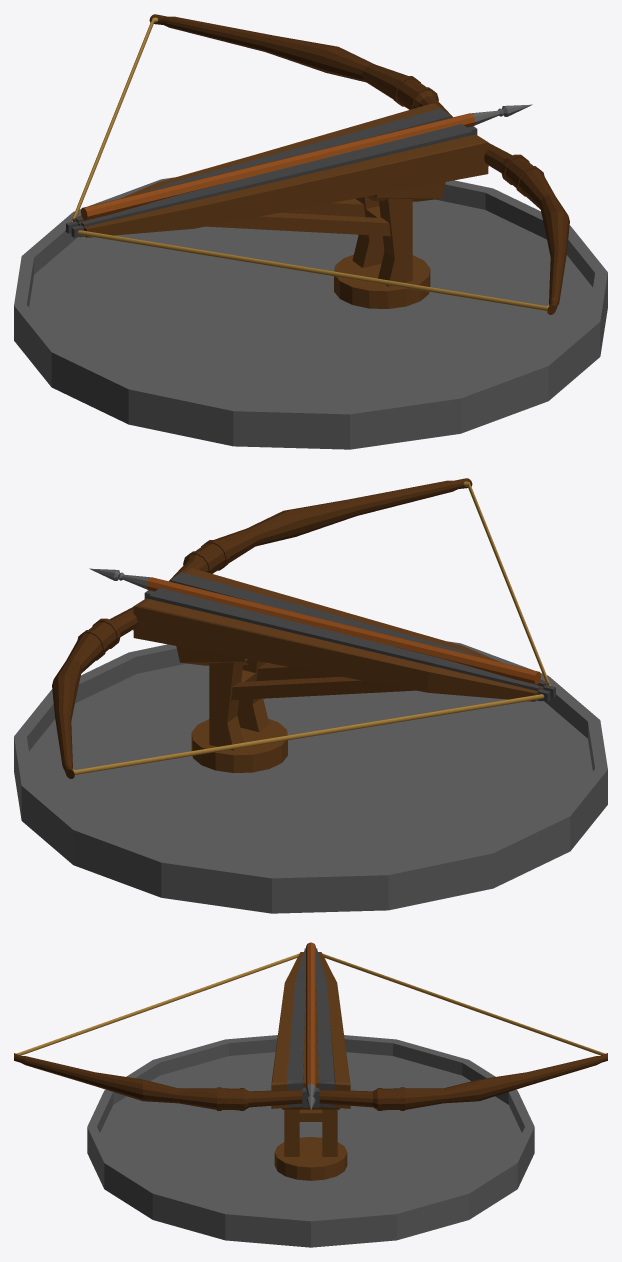
File: spearthrower_base.fbx
3 renders of one model, top to bottom at view 1: azimuth 30°, elevation 25°; view 2: azimuth 150°, elevation 25°; view 3: azimuth 270°, elevation 25°, orthographic. The views are drawn at different scales.
Parts seen in each view (by area): view 1: BasePrincipal, Base, Crossbow, Lanca, Foot, Apoio, Corda, BasePequena; view 2: BasePrincipal, Base, Crossbow, Lanca, Foot, Apoio, Corda, BasePequena; view 3: BasePrincipal, Crossbow, Base, Corda, BasePequena, Foot, Lanca.
Boxes of the visible parts, <box> form: BasePrincipal: <box>14,177,607,449</box>; Base: <box>65,103,488,237</box>; Crossbow: <box>149,14,569,314</box>; Lanca: <box>80,104,532,220</box>; Foot: <box>352,196,412,286</box>; Apoio: <box>206,199,390,236</box>; Corda: <box>71,17,549,310</box>; BasePequena: <box>334,254,430,308</box>; BasePrincipal: <box>14,641,607,913</box>; Base: <box>133,567,556,701</box>; Crossbow: <box>52,478,472,778</box>; Lanca: <box>89,568,541,684</box>; Foot: <box>209,660,269,750</box>; Apoio: <box>231,663,415,700</box>; Corda: <box>72,481,550,774</box>; BasePequena: <box>191,718,287,772</box>; BasePrincipal: <box>87,1035,534,1247</box>; Crossbow: <box>14,1053,607,1110</box>; Base: <box>271,948,350,1109</box>; Corda: <box>16,953,605,1055</box>; BasePequena: <box>274,1137,347,1180</box>; Foot: <box>284,1109,337,1156</box>; Lanca: <box>306,942,315,1109</box>.
Bounding box in the file's own units: 308 × 97.4 × 409.
Materials: 2 (2 with a texture image).
